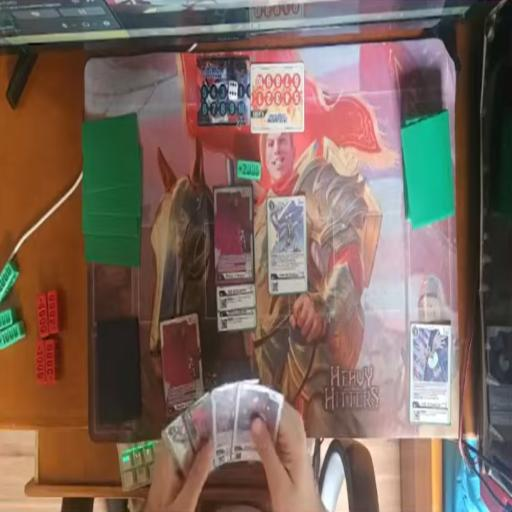card: (229, 381, 283, 473), (409, 321, 453, 427), (161, 314, 203, 424), (266, 193, 309, 297), (213, 186, 256, 288), (212, 378, 239, 474), (183, 392, 213, 462), (164, 410, 194, 480), (214, 304, 258, 336), (216, 282, 258, 314)
